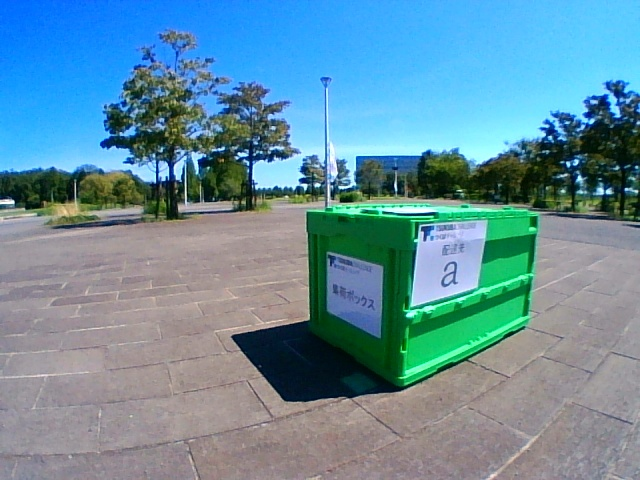green_box: (306, 202, 537, 386)
tag_a: (421, 228, 470, 290)
